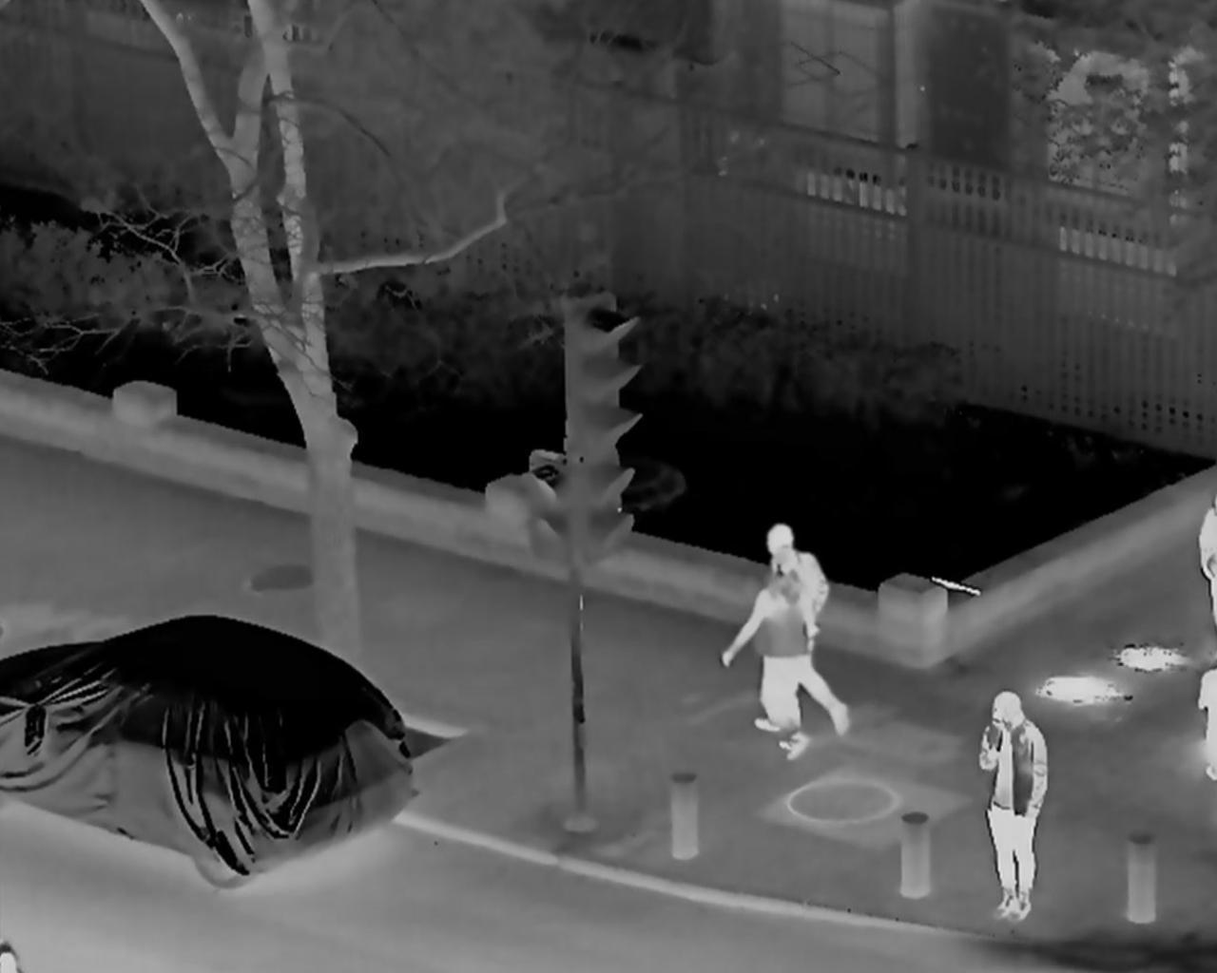person: (762, 518, 855, 728), (731, 555, 813, 759), (980, 691, 1038, 927)
